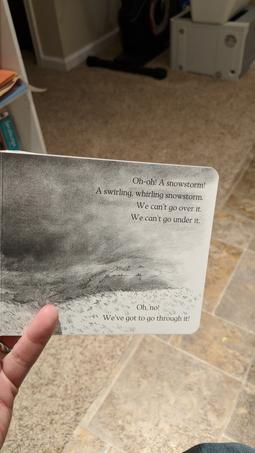text block: (93, 168, 209, 232), (89, 293, 192, 327)
